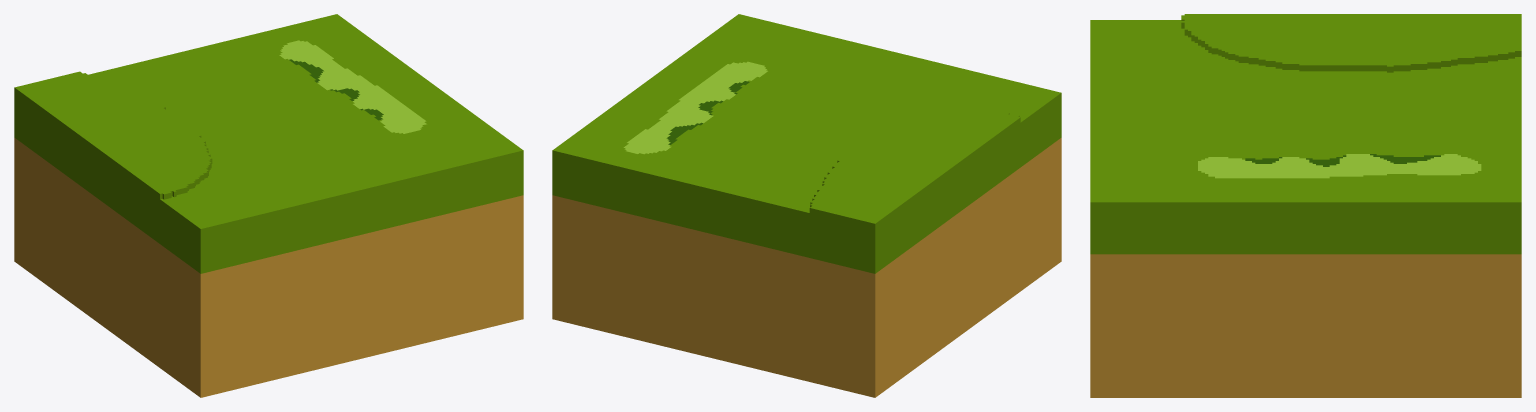
The picture shows the model from 3 angles, left to right: view 1: azimuth 30°, elevation 25°; view 2: azimuth 150°, elevation 25°; view 3: azimuth 270°, elevation 25°; orthographic projection. The views are drawn at different scales.
Visible parts, largest first — view 1: 16B; view 2: 16B; view 3: 16B.
Boxes of the visible parts, x1=… form: 16B: x1=14, y1=14, x2=523, y2=397; 16B: x1=552, y1=14, x2=1061, y2=397; 16B: x1=1090, y1=14, x2=1521, y2=397.
Size of the model in its own units: 12.8 by 6.6 by 12.8.
Materials: 1 (1 with a texture image).
